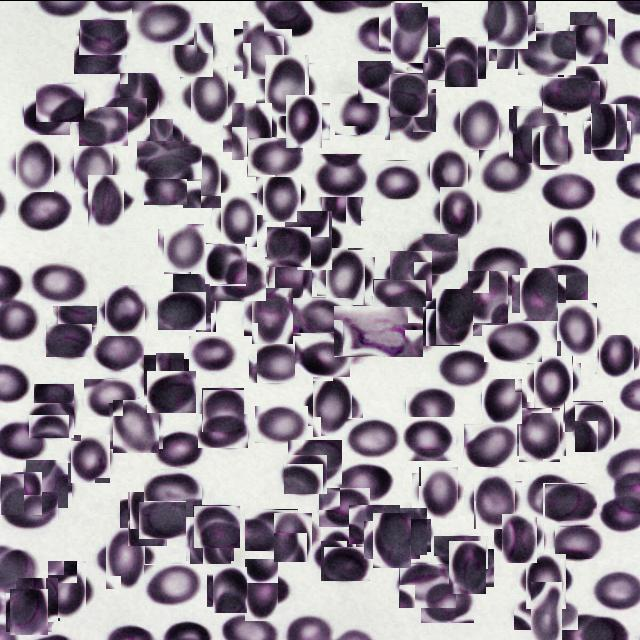red blood cell: (511, 106, 565, 160), (260, 58, 314, 110), (144, 468, 202, 516), (358, 60, 423, 102), (132, 0, 194, 44), (470, 246, 528, 293), (168, 275, 220, 327), (333, 462, 395, 504), (387, 90, 438, 141), (399, 562, 456, 607), (518, 30, 576, 74), (307, 380, 358, 430), (100, 532, 151, 582), (238, 24, 288, 74), (111, 400, 161, 450), (143, 563, 202, 605), (403, 416, 458, 461), (137, 140, 202, 178), (167, 24, 216, 74), (484, 319, 542, 361), (288, 439, 342, 484), (227, 106, 276, 155), (248, 290, 297, 339), (385, 7, 434, 56), (29, 262, 89, 302), (463, 422, 517, 466), (479, 149, 534, 192), (16, 188, 72, 230), (322, 251, 370, 300), (314, 153, 368, 196), (515, 410, 563, 458), (185, 71, 233, 119), (522, 556, 570, 604), (266, 254, 314, 302), (42, 564, 90, 612), (238, 565, 286, 613), (522, 589, 570, 637), (464, 274, 512, 322), (430, 292, 478, 340), (244, 508, 298, 550), (404, 232, 458, 274), (471, 477, 518, 525), (291, 216, 338, 264), (179, 155, 226, 203), (344, 417, 400, 457), (248, 136, 304, 176), (210, 260, 266, 300), (421, 580, 474, 622), (124, 494, 171, 541), (530, 358, 578, 404), (142, 354, 188, 402), (90, 330, 145, 370), (248, 342, 303, 382), (292, 296, 353, 332), (101, 286, 148, 332), (160, 226, 207, 272), (494, 17, 540, 64), (369, 516, 416, 562), (542, 170, 596, 210), (2, 491, 58, 529), (456, 102, 502, 148), (216, 196, 262, 242), (554, 305, 600, 351), (415, 469, 461, 515), (12, 141, 58, 187), (416, 298, 462, 344), (24, 460, 70, 506), (388, 252, 434, 298), (516, 270, 562, 316), (484, 0, 532, 44), (318, 486, 370, 526), (566, 15, 612, 60), (84, 177, 129, 223), (445, 544, 490, 590), (527, 474, 576, 516), (406, 386, 455, 428), (334, 92, 383, 134), (147, 370, 196, 412), (84, 378, 138, 416), (544, 482, 598, 520), (295, 339, 350, 376), (436, 189, 481, 234), (281, 98, 326, 143), (260, 172, 304, 218), (384, 508, 430, 552), (318, 178, 364, 222), (188, 516, 232, 562), (193, 504, 240, 547), (534, 262, 588, 299), (349, 504, 400, 543), (255, 405, 308, 442), (354, 16, 408, 52), (74, 35, 125, 73), (316, 532, 360, 576), (428, 149, 472, 193), (550, 214, 594, 258), (68, 436, 112, 480), (71, 144, 115, 188), (145, 124, 189, 168), (272, 514, 316, 558), (573, 406, 617, 450), (373, 159, 422, 198), (157, 290, 206, 329), (152, 430, 205, 466), (481, 378, 524, 422), (433, 534, 488, 568), (79, 107, 128, 145), (189, 335, 239, 372), (202, 388, 244, 432), (437, 345, 484, 384), (36, 83, 84, 121), (138, 500, 186, 538), (118, 74, 161, 116), (16, 578, 59, 620), (52, 304, 97, 344), (24, 95, 70, 134), (498, 516, 540, 558), (561, 67, 603, 109), (205, 242, 247, 284), (440, 40, 482, 82), (542, 76, 591, 112), (8, 590, 50, 632), (0, 472, 42, 514), (98, 98, 147, 134), (267, 226, 311, 266), (283, 453, 327, 493), (264, 0, 314, 35), (79, 18, 127, 54), (389, 72, 428, 116), (198, 413, 248, 447), (34, 383, 74, 425), (588, 106, 630, 146), (210, 568, 250, 610), (28, 401, 74, 437), (530, 127, 570, 168), (588, 116, 628, 156), (418, 46, 464, 80), (324, 546, 370, 580), (598, 336, 636, 376), (46, 323, 92, 356), (373, 278, 426, 306), (555, 526, 601, 558), (144, 171, 187, 204), (564, 400, 604, 431)
trophozoite: (334, 304, 424, 356)
